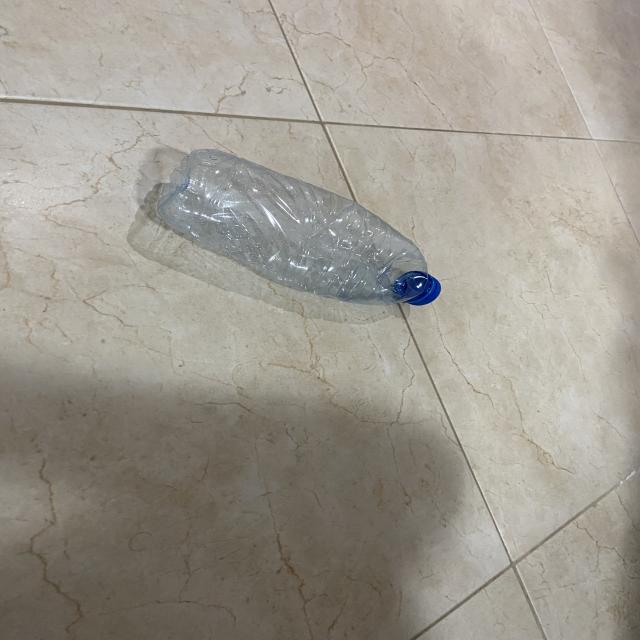plastic bottle: (138, 144, 454, 320)
